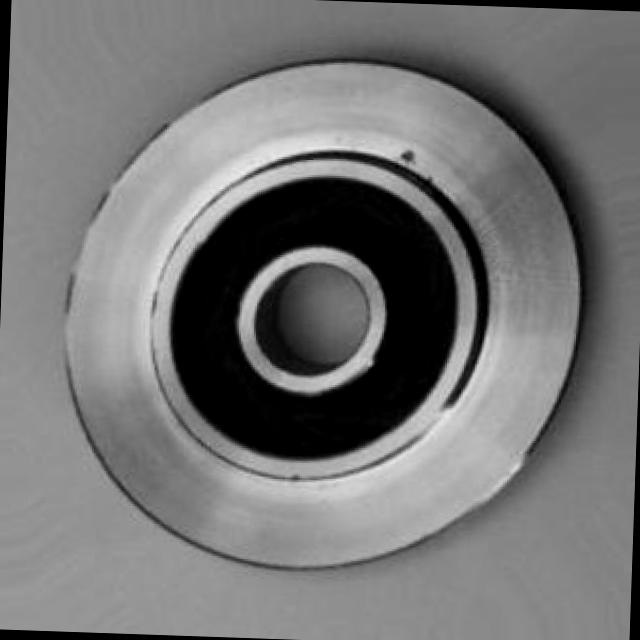Defect: (396, 142, 424, 170)
